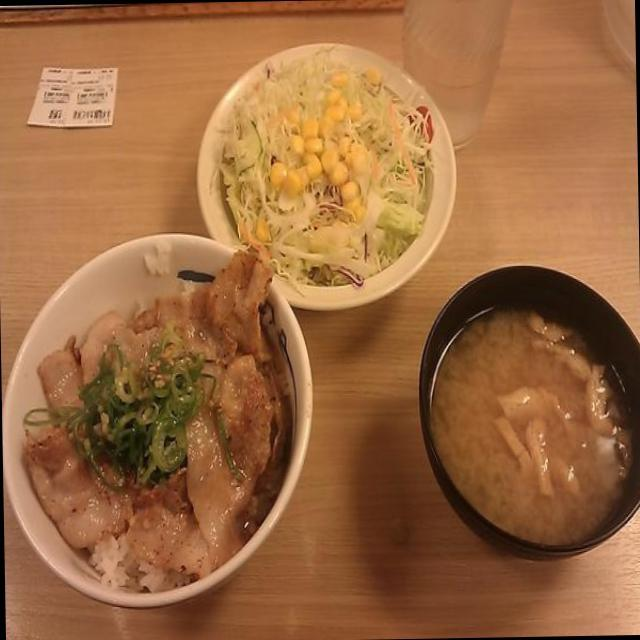Green Salad: (228, 74, 430, 276)
